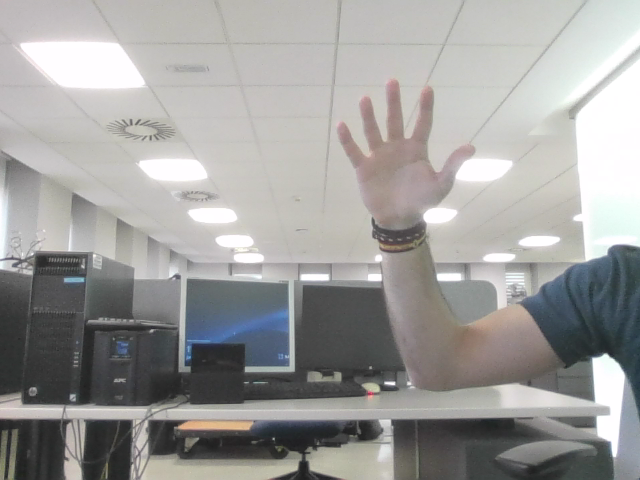Mano Abierta: (348, 90, 461, 198)
